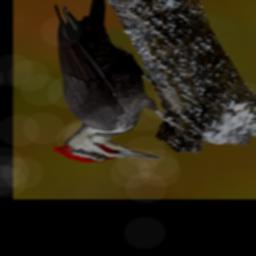Woodpecker: (51, 0, 182, 163)
